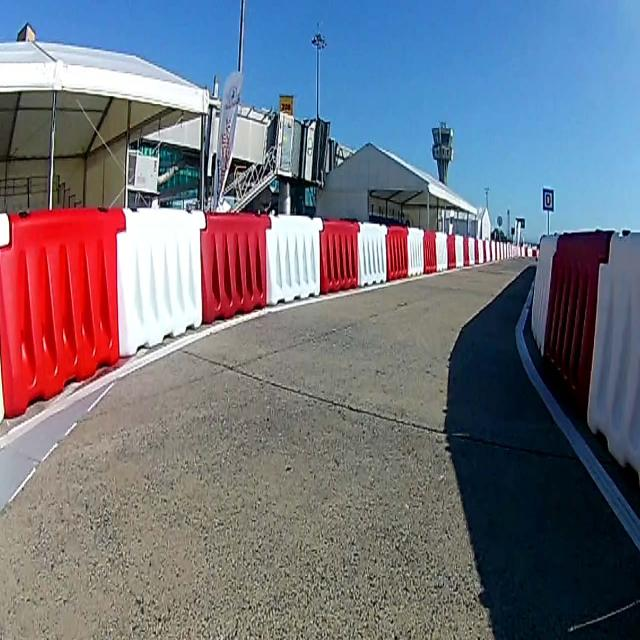durak: (544, 187, 554, 209)
